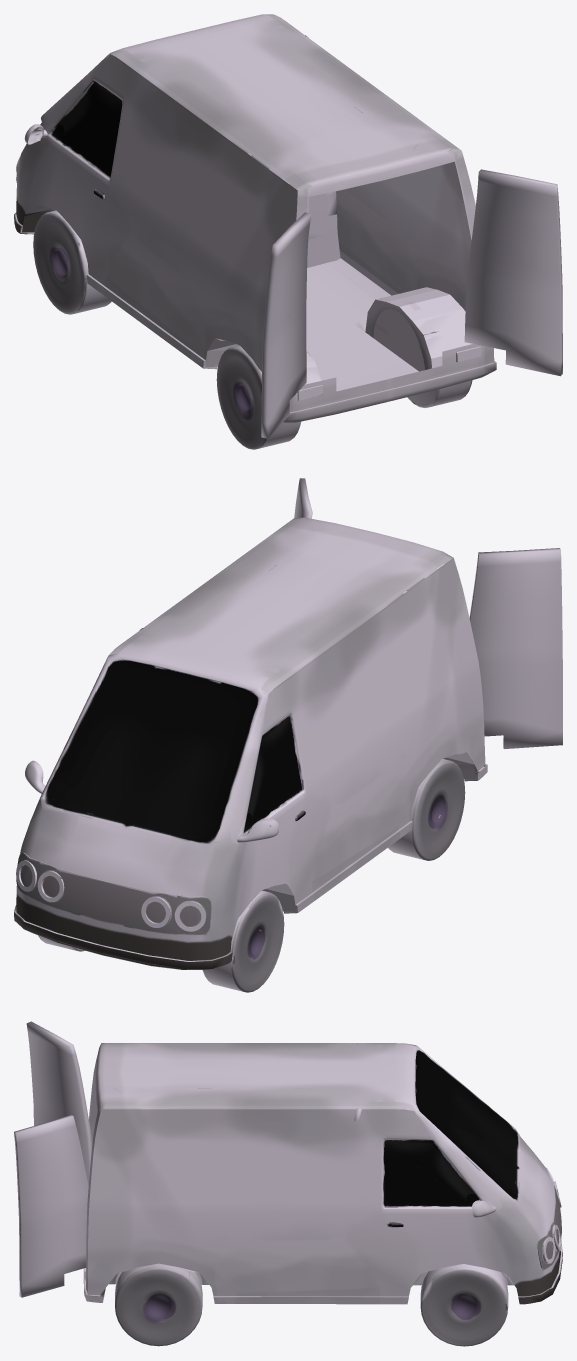
Rendered from van.glb.
3 renders of one model, top to bottom at view 1: azimuth 30°, elevation 25°; view 2: azimuth 150°, elevation 25°; view 3: azimuth 270°, elevation 25°, orthographic. The views are drawn at different scales.
Parts seen in each view (by area): view 1: van, van door 1, van door 2; view 2: van, van door 2; view 3: van, van door 1, van door 2.
Boxes of the visible parts, <box> form: van: <box>14,14,496,449</box>; van door 1: <box>464,169,562,376</box>; van door 2: <box>261,212,311,438</box>; van: <box>14,517,487,992</box>; van door 2: <box>469,548,562,748</box>; van: <box>83,1043,562,1346</box>; van door 1: <box>14,1115,88,1297</box>; van door 2: <box>26,1021,92,1185</box>.
Bounding box in the file's own units: 1.7 × 1.57 × 3.35.
1 material, 1 textured.
